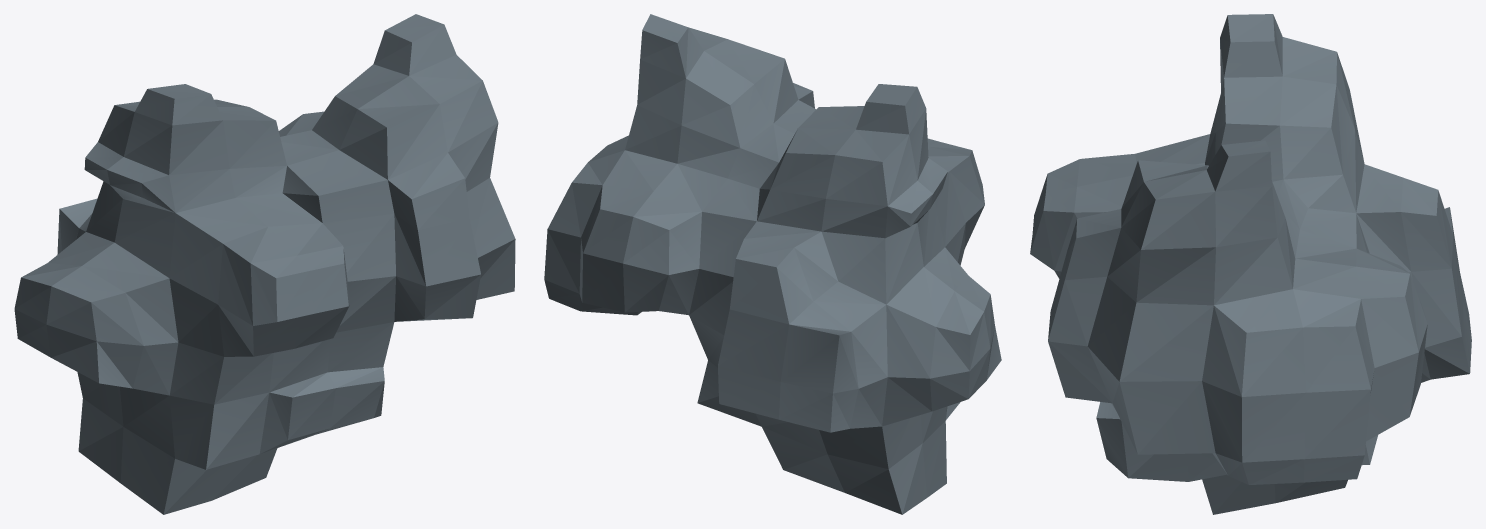
File: metal rock4 cortada.fbx
3 views of the same model, side by side, from view 1: azimuth 30°, elevation 25°; view 2: azimuth 150°, elevation 25°; view 3: azimuth 270°, elevation 25° (orthographic). The views are drawn at different scales.
Parts seen in each view (by area): view 1: rock4.003, rock4.004, rock4.002, rock4.001, rock4.006, rock4.005; view 2: rock4.006, rock4.001, rock4.005, rock4.002, rock4.003, rock4.004; view 3: rock4.001, rock4.002, rock4.006, rock4.003, rock4.004, rock4.005.
Boxes of the visible parts, x1,y1,x2,y2 form: rock4.003: (46, 84, 395, 356); rock4.004: (46, 322, 394, 514); rock4.002: (312, 14, 498, 230); rock4.001: (278, 111, 515, 321); rock4.006: (14, 99, 247, 324); rock4.005: (14, 309, 123, 482); rock4.006: (689, 128, 990, 393); rock4.001: (544, 135, 727, 315); rock4.005: (689, 315, 990, 514); rock4.002: (625, 14, 814, 178); rock4.003: (728, 84, 994, 347); rock4.004: (921, 326, 1001, 497); rock4.001: (1048, 230, 1427, 484); rock4.002: (1065, 140, 1299, 305); rock4.006: (1280, 37, 1463, 347); rock4.003: (1030, 14, 1299, 278); rock4.004: (1096, 402, 1275, 514); rock4.005: (1274, 274, 1471, 502).
Size of the model in its own units: 339 by 305 by 258.
